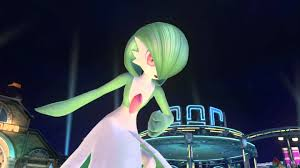gardevoir: (31, 18, 192, 168)
